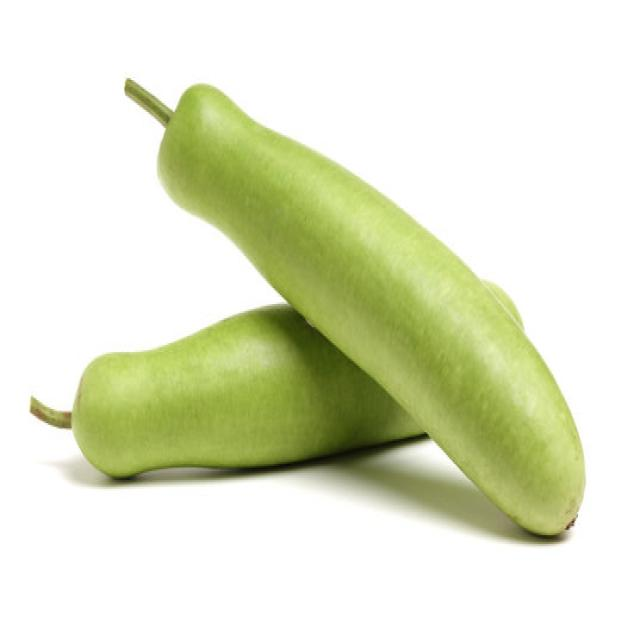Bottle Gourd: (123, 75, 585, 537), (29, 301, 429, 478)
